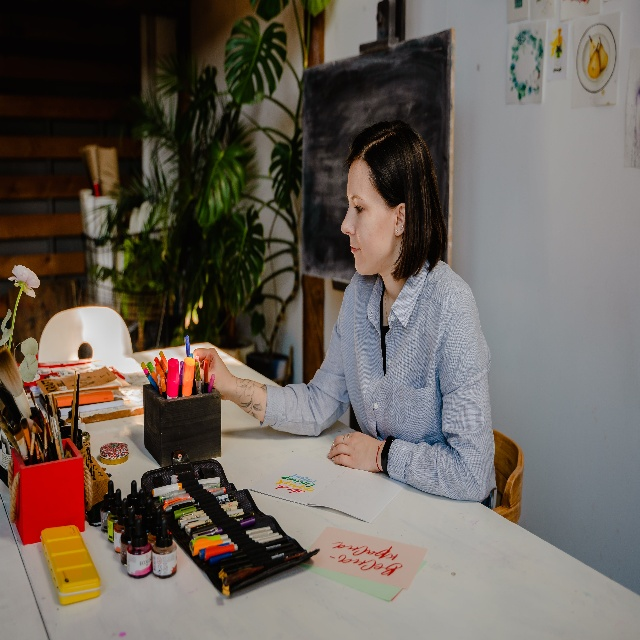Sin_guantes: (328, 433, 382, 480), (191, 350, 236, 400)
